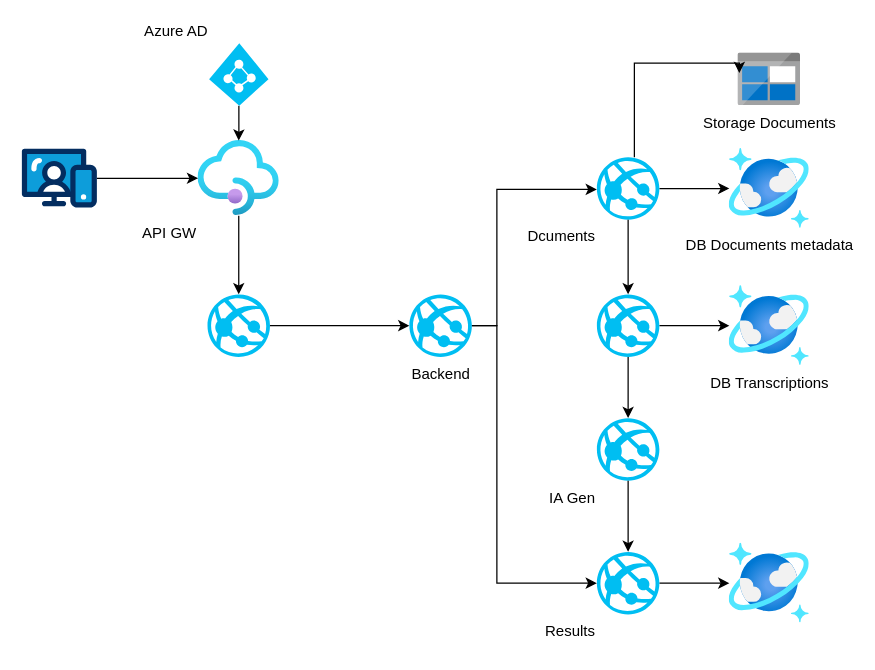
This 875x670 diagram has some shape labels left out. The shapes that lost their labels are listed below. From the top down, each one's box as (x1, y1, x2, y2) in pixels, then its label:
(21, 147, 97, 208): Frontend
(207, 294, 269, 356): BFF
(596, 294, 659, 356): OCR
(729, 542, 809, 622): DB Results
